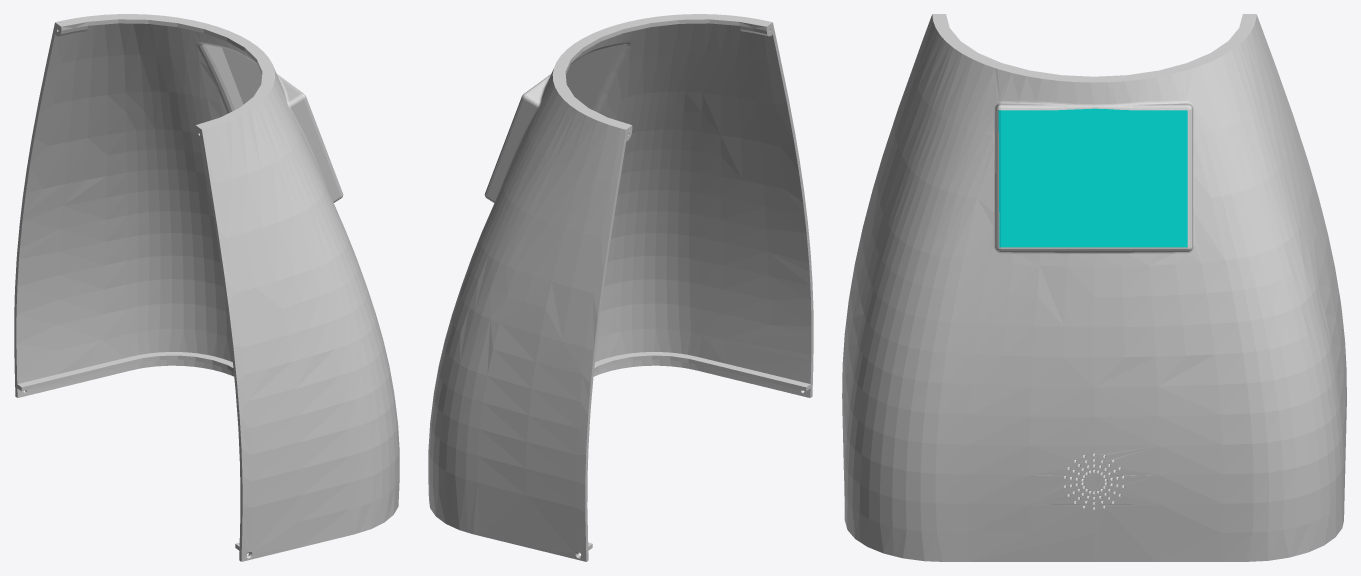
The model's file is front_low_body_link.dae.
3 renders of one model, left to right at view 1: azimuth 30°, elevation 25°; view 2: azimuth 150°, elevation 25°; view 3: azimuth 270°, elevation 25°, orthographic. The views are drawn at different scales.
Parts seen in each view (by area): view 1: Front Low Body Link; view 2: Front Low Body Link; view 3: Front Low Body Link.
Part boxes in pixels (box(x1,y1,x2,y2)): Front Low Body Link: box(14, 14, 399, 561); Front Low Body Link: box(428, 14, 813, 561); Front Low Body Link: box(842, 14, 1346, 561).
Size of the model in its own units: 0.2501 by 0.5135 by 0.5.
